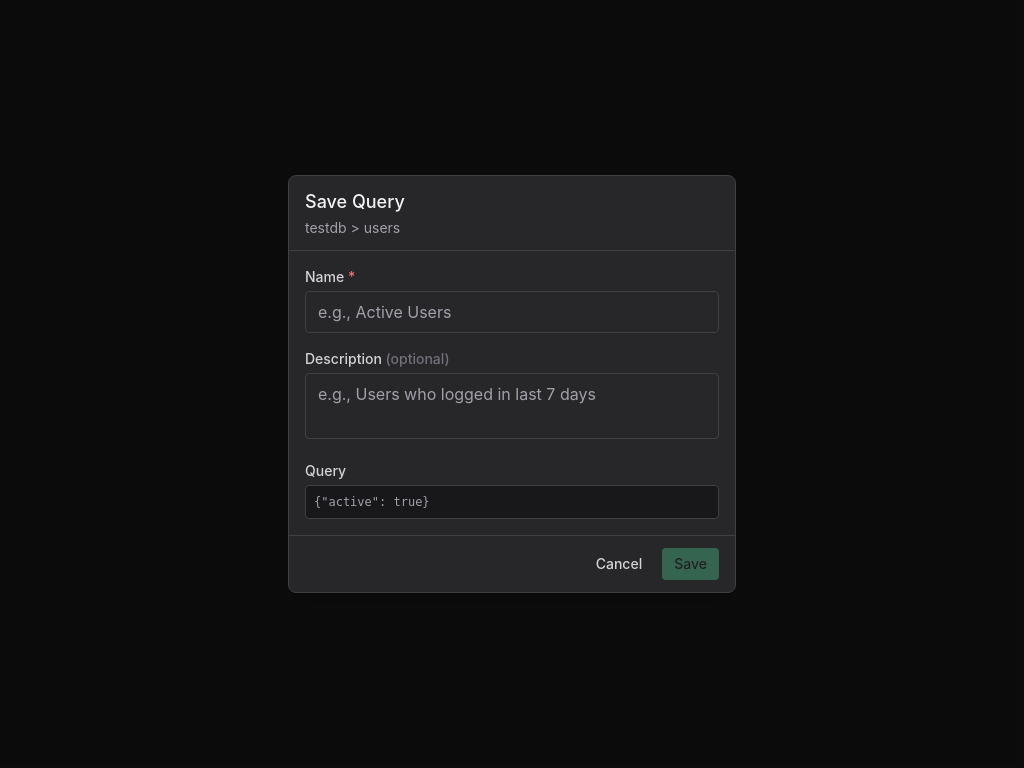
Test: SaveQueryModal › validates name is required
The image size is (1024, 768).
Expected: the button "Save" is disabled, [662, 548, 719, 580]
# Type a name
Type "My Query" into the field with placeholder "e.g., Active Users" at (512, 312), box [305, 291, 719, 333]
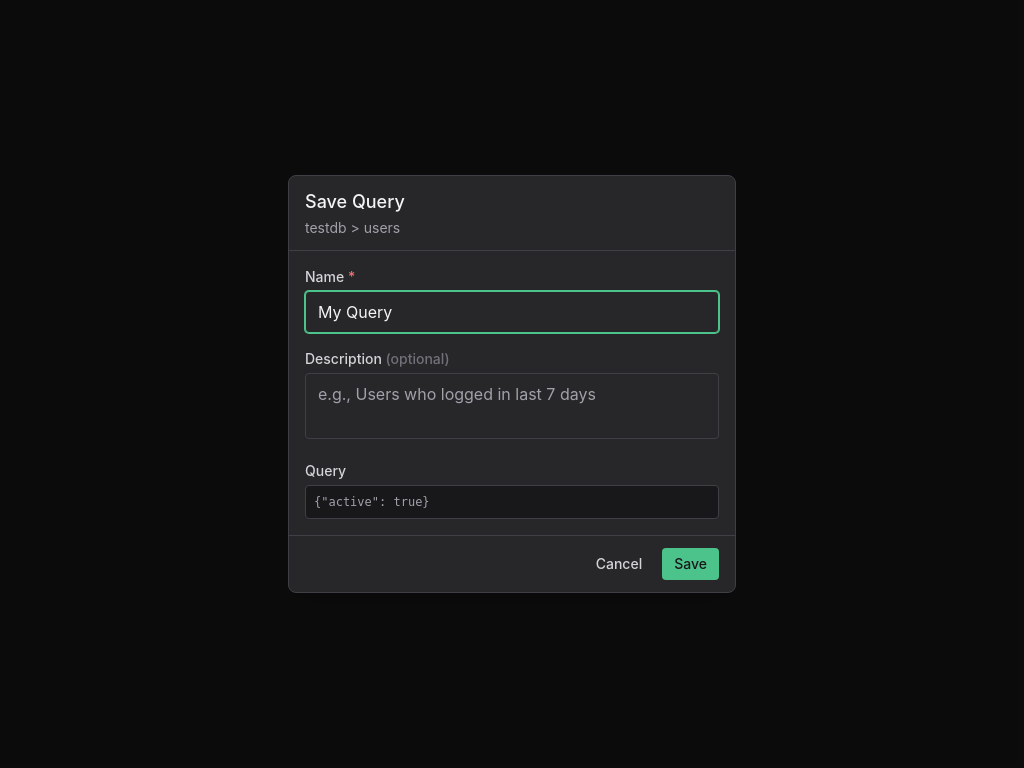
Now the button "Save" is enabled, box [662, 548, 719, 580]
